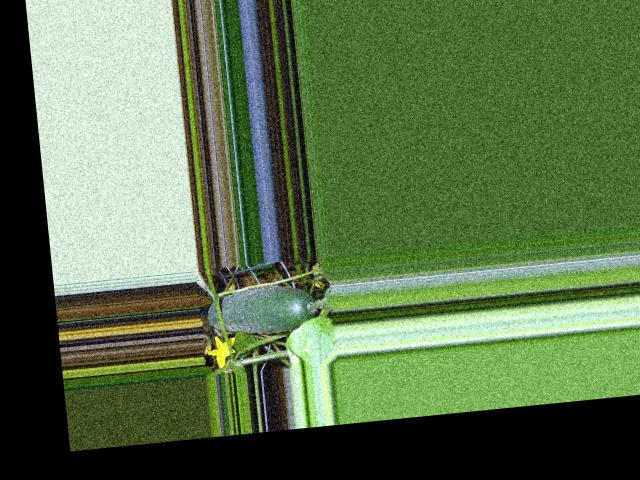cucumber: (206, 281, 319, 338)
